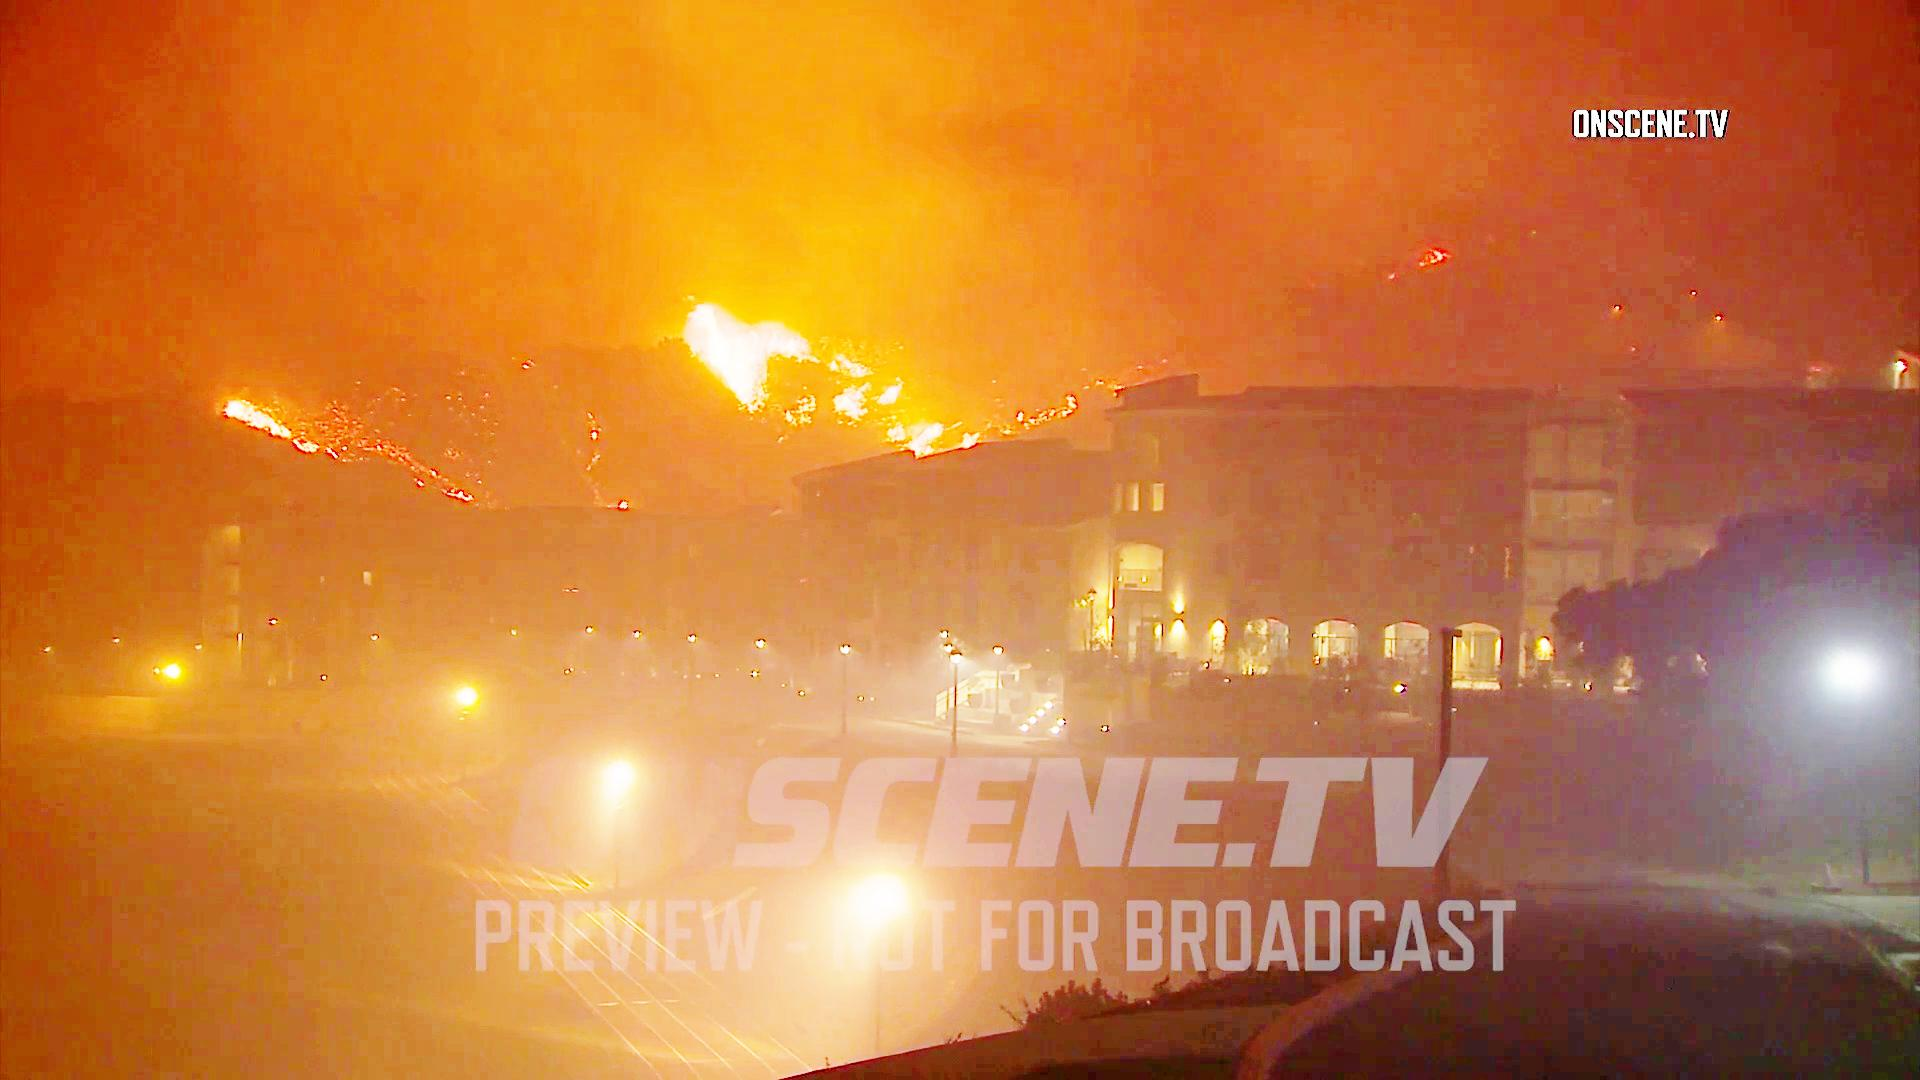fire: (695, 320, 771, 418)
